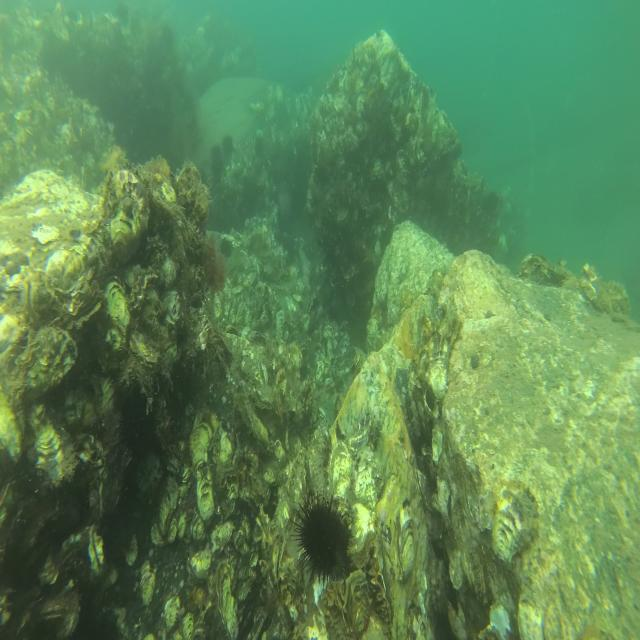echinus: (294, 485, 352, 593), (219, 231, 233, 260), (221, 133, 235, 156), (210, 143, 223, 166)
